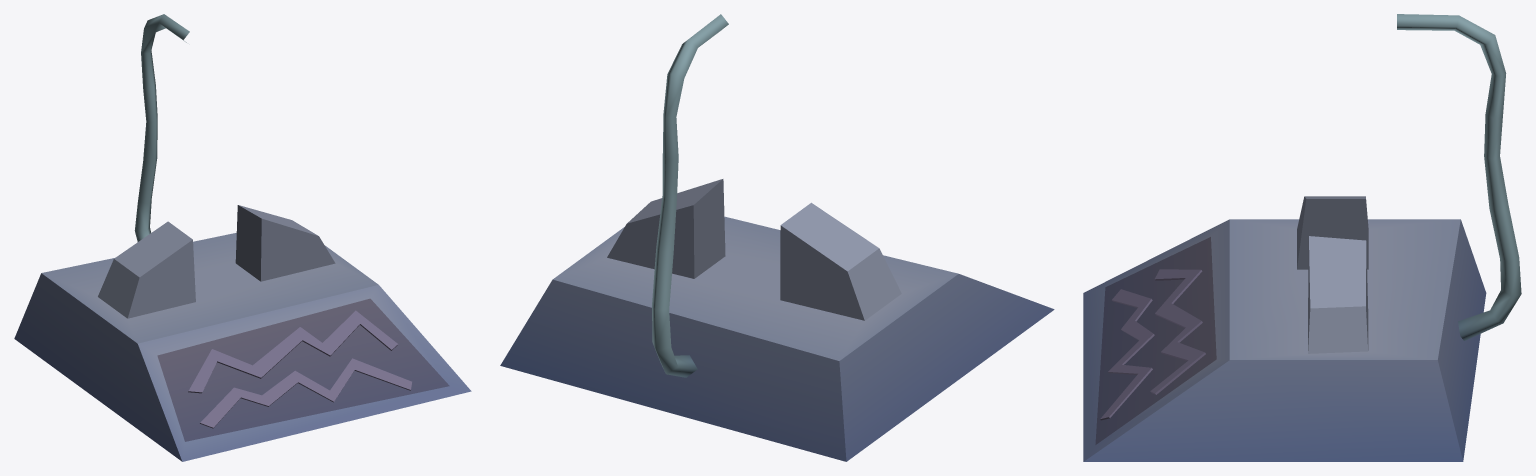
Rendered from prop-charging_station.glb.
The picture shows the model from 3 angles, left to right: view 1: azimuth 30°, elevation 25°; view 2: azimuth 150°, elevation 25°; view 3: azimuth 270°, elevation 25°; orthographic projection. The views are drawn at different scales.
Visible parts, largest first — view 1: prop-charging_station; view 2: prop-charging_station; view 3: prop-charging_station.
Boxes of the visible parts, x1,y1,x2,y2 form: prop-charging_station: [14, 14, 471, 461]; prop-charging_station: [500, 14, 1054, 461]; prop-charging_station: [1083, 14, 1521, 461].
Size of the model in its own units: 3.46 by 3.44 by 3.79.
